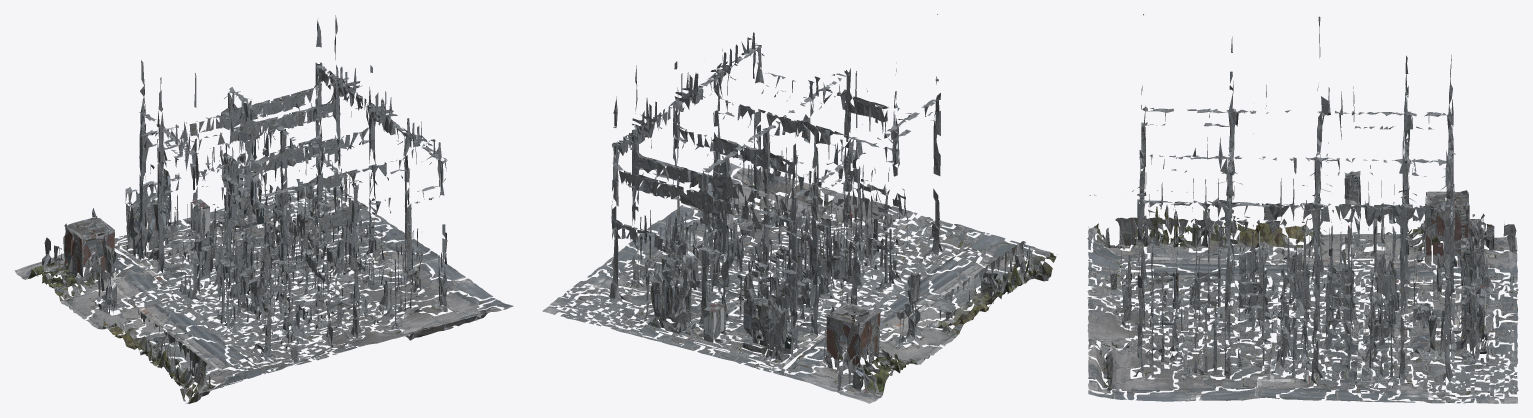
File: wapda.lod1.glb
The picture shows the model from 3 angles, left to right: view 1: azimuth 30°, elevation 25°; view 2: azimuth 150°, elevation 25°; view 3: azimuth 270°, elevation 25°; orthographic projection. The views are drawn at different scales.
Visible parts, largest first — view 1: Object_6; view 2: Object_6; view 3: Object_6.
Part boxes in pixels (x1,y1,x2,y2): Object_6: (14,15,513,403); Object_6: (542,14,1057,403); Object_6: (1087,14,1518,403).
Size of the model in its own units: 19.99 by 14.61 by 19.98.
2 materials, 2 textured.
